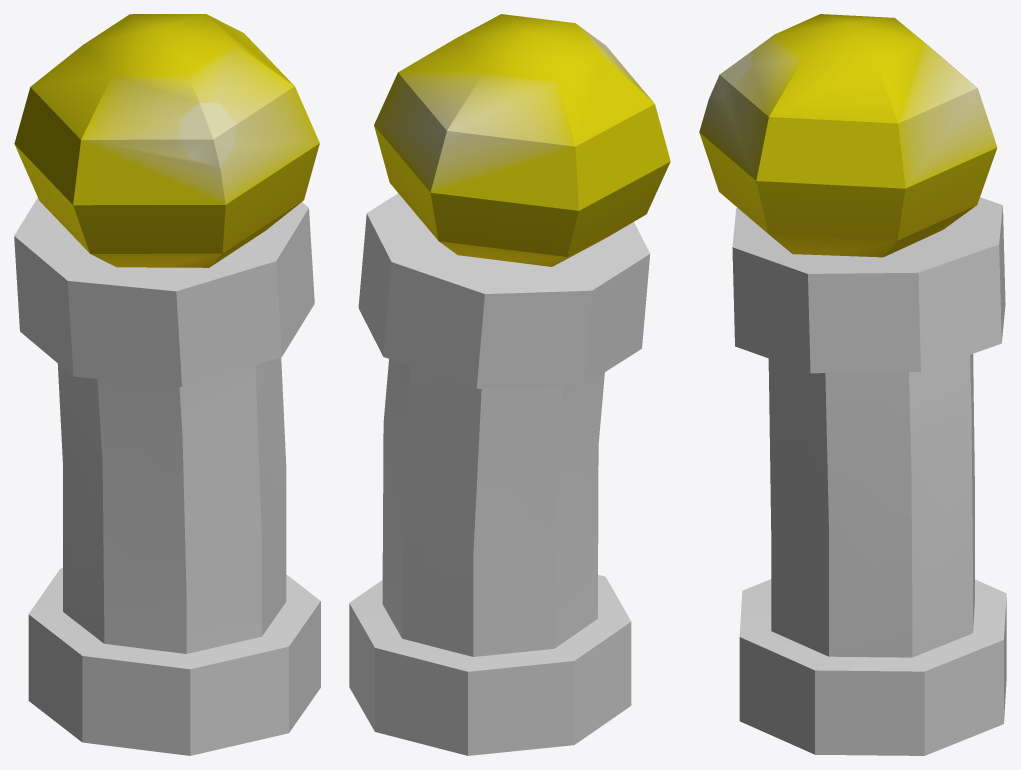
The model's file is HolidaySignPostA.glb.
The picture shows the model from 3 angles, left to right: view 1: azimuth 30°, elevation 25°; view 2: azimuth 150°, elevation 25°; view 3: azimuth 270°, elevation 25°; orthographic projection. The views are drawn at different scales.
Visible parts, largest first — view 1: HolidaySignPostA; view 2: HolidaySignPostA; view 3: HolidaySignPostA.
Boxes of the visible parts, x1=… form: HolidaySignPostA: x1=14, y1=14, x2=320, y2=755; HolidaySignPostA: x1=349, y1=14, x2=670, y2=755; HolidaySignPostA: x1=699, y1=14, x2=1006, y2=755.
Bounding box in the file's own units: 0.433 × 1.07 × 0.4511.
